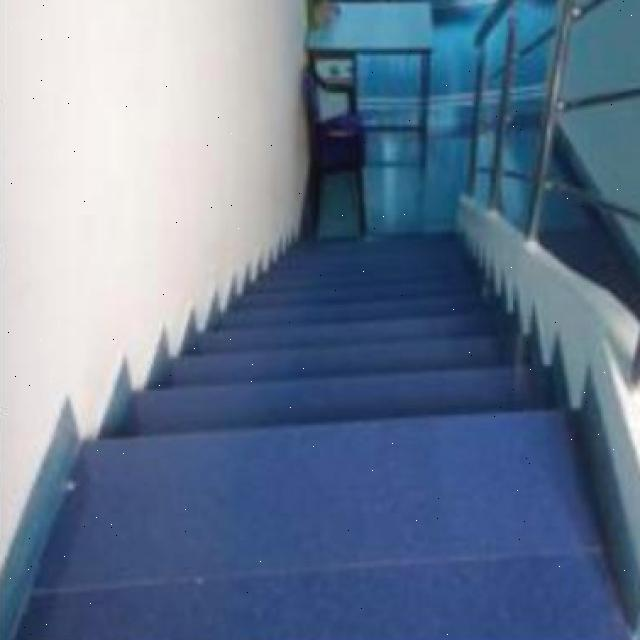stair: (64, 286, 547, 471)
